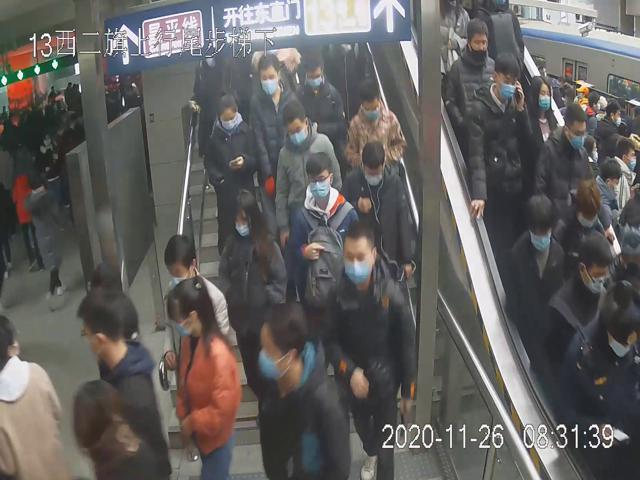person: (327, 217, 416, 480), (164, 275, 245, 480), (217, 187, 289, 400), (466, 52, 535, 224), (287, 150, 361, 302), (245, 52, 301, 239), (342, 141, 415, 284), (274, 99, 343, 250), (162, 232, 229, 387), (205, 91, 261, 239), (445, 16, 500, 136), (345, 79, 408, 178), (537, 103, 595, 204), (293, 50, 345, 149), (519, 73, 559, 163)
